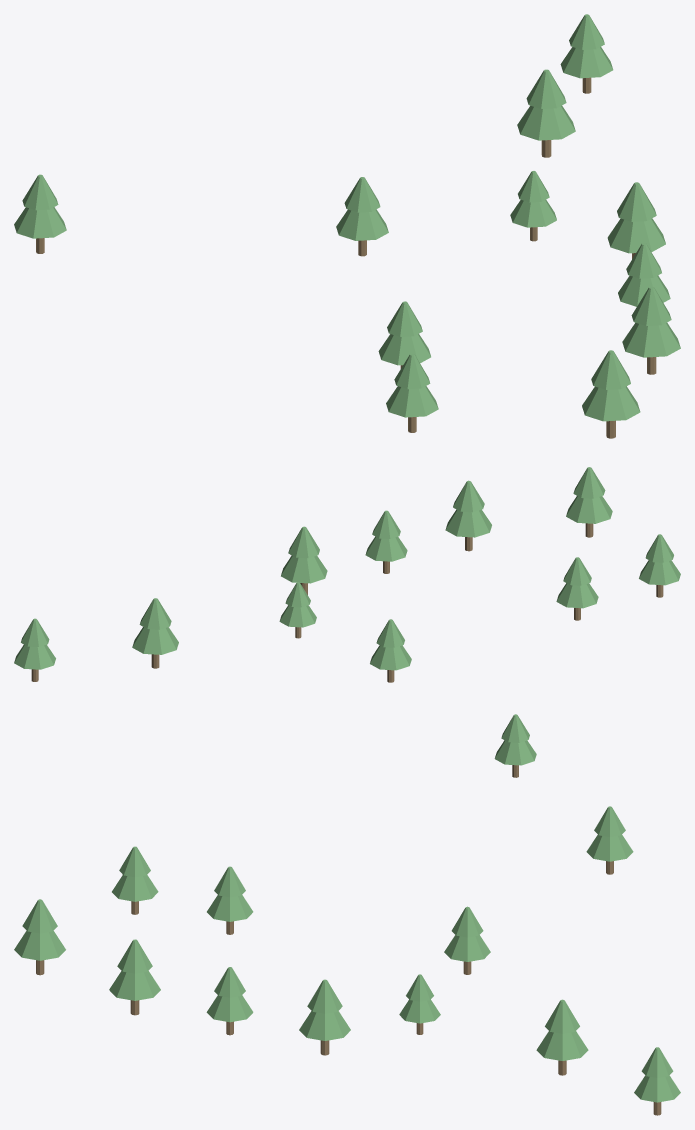
The model's file is vegetasi.glb.
The picture shows the model from 3 angles, top to bottom: view 1: azimuth 30°, elevation 25°; view 2: azimuth 150°, elevation 25°; view 3: azimuth 270°, elevation 25°; orthographic projection. The views are drawn at different scales.
Parts seen in each view (by area): view 1: pohon_0_daun1.001, pohon_2_daun1.001, pohon_5_daun1.001, pohon_3_daun1.001, pohon_6_daun1.001, pohon_7_daun1.001, pohon_1_daun1.001, pohon_4_daun1.001, pohon_9_daun1.001, pohon_10_daun1.001, pohon_0_daun2.001, pohon_3_daun2.001 (+10 smaller); view 2: pohon_3_daun1.001, pohon_2_daun1.001, pohon_5_daun1.001, pohon_0_daun1.001, pohon_4_daun1.001, pohon_7_daun1.001, pohon_9_daun1.001, pohon_8_daun1.001, pohon_1_daun1.001, pohon_6_daun1.001, pohon_10_daun1.001, pohon_0_daun2.001 (+9 smaller); view 3: pohon_0_daun1.001, pohon_5_daun1.001, pohon_2_daun1.001, pohon_3_daun1.001, pohon_6_daun1.001, pohon_8_daun1.001, pohon_4_daun1.001, pohon_9_daun1.001, pohon_1_daun1.001, pohon_7_daun1.001, pohon_10_daun1.001, pohon_0_daun2.001 (+10 smaller).
Part boxes in pixels (<box>): pohon_0_daun1.001: <box>582,386,640,421</box>; pohon_2_daun1.001: <box>622,322,680,357</box>; pohon_5_daun1.001: <box>517,105,575,140</box>; pohon_3_daun1.001: <box>607,218,665,253</box>; pohon_6_daun1.001: <box>560,47,613,78</box>; pohon_7_daun1.001: <box>14,207,66,238</box>; pohon_1_daun1.001: <box>386,386,438,417</box>; pohon_4_daun1.001: <box>336,209,388,240</box>; pohon_9_daun1.001: <box>378,334,430,365</box>; pohon_10_daun1.001: <box>510,200,556,227</box>; pohon_0_daun2.001: <box>591,350,630,389</box>; pohon_3_daun2.001: <box>617,182,656,221</box>; pohon_3_daun1.001: <box>281,555,327,583</box>; pohon_2_daun1.001: <box>445,509,491,537</box>; pohon_5_daun1.001: <box>132,627,178,654</box>; pohon_0_daun1.001: <box>566,496,612,523</box>; pohon_4_daun1.001: <box>370,645,411,670</box>; pohon_7_daun1.001: <box>494,740,536,765</box>; pohon_9_daun1.001: <box>556,583,598,608</box>; pohon_8_daun1.001: <box>365,536,407,561</box>; pohon_1_daun1.001: <box>639,560,680,585</box>; pohon_6_daun1.001: <box>14,644,55,669</box>; pohon_10_daun1.001: <box>279,605,316,627</box>; pohon_0_daun2.001: <box>573,467,605,498</box>; pohon_0_daun1.001: <box>14,930,65,960</box>; pohon_5_daun1.001: <box>536,1031,588,1060</box>; pohon_2_daun1.001: <box>109,971,160,1000</box>; pohon_3_daun1.001: <box>299,1011,350,1040</box>; pohon_6_daun1.001: <box>634,1075,680,1102</box>; pohon_8_daun1.001: <box>206,995,253,1022</box>; pohon_4_daun1.001: <box>444,935,490,961</box>; pohon_9_daun1.001: <box>207,895,253,921</box>; pohon_1_daun1.001: <box>112,875,158,901</box>; pohon_7_daun1.001: <box>586,835,633,861</box>; pohon_10_daun1.001: <box>399,999,440,1023</box>; pohon_0_daun2.001: <box>22,899,57,933</box>.
Size of the model in its own units: 25.98 by 3.4 by 28.09.
